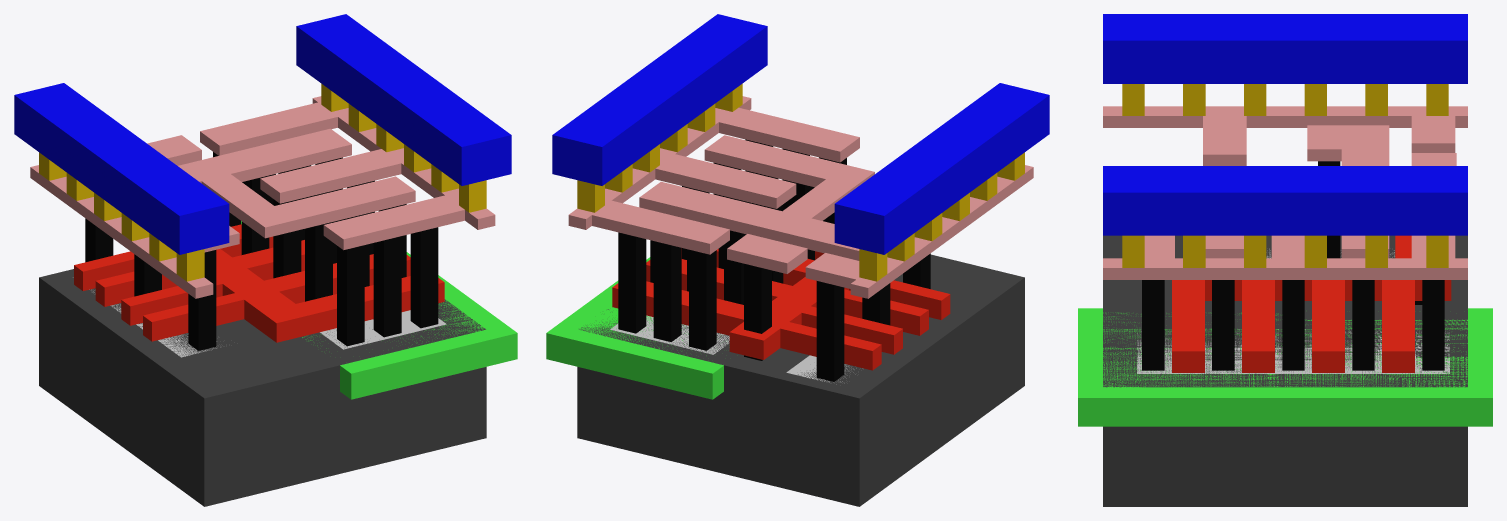
Rendered from sky130_fd_sc_hd__clkinvlp_4.obj.
3 views of the same model, side by side, from view 1: azimuth 30°, elevation 25°; view 2: azimuth 150°, elevation 25°; view 3: azimuth 270°, elevation 25° (orthographic). The views are drawn at different scales.
Visible parts, largest first — view 1: subs, metal1, li, licon, poly, nwell, mcon, tap, diff; view 2: subs, metal1, li, licon, poly, nwell, mcon, tap; view 3: metal1, subs, nwell, li, poly, licon, mcon, tap.
Part boxes in pixels (x1,y1,x2,y2): subs: [39, 269, 486, 506]; metal1: [14, 14, 511, 254]; li: [30, 96, 495, 298]; licon: [85, 152, 438, 350]; poly: [74, 224, 444, 342]; nwell: [241, 221, 517, 399]; mcon: [39, 83, 486, 281]; tap: [320, 310, 446, 349]; diff: [73, 277, 220, 357]; subs: [577, 254, 1024, 506]; metal1: [552, 14, 1049, 254]; li: [568, 96, 1033, 298]; licon: [618, 139, 930, 381]; poly: [612, 248, 950, 370]; nwell: [546, 257, 723, 399]; mcon: [577, 83, 1024, 281]; tap: [610, 315, 729, 354]; metal1: [1103, 14, 1467, 235]; subs: [1103, 235, 1467, 506]; nwell: [1078, 308, 1492, 426]; li: [1103, 106, 1467, 279]; poly: [1172, 235, 1451, 372]; licon: [1142, 161, 1444, 370]; mcon: [1122, 84, 1448, 267]; tap: [1137, 329, 1449, 373].
Bounding box in the file's own units: 3.2 × 2.74 × 3.14.
